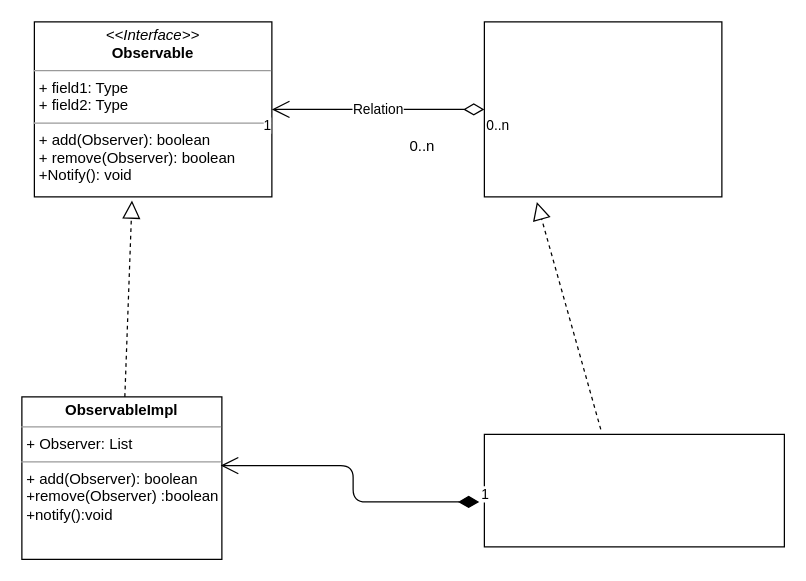
This 806x581 diagram has some shape labels left out. Here are the shapes that lost their labels. From the top down, the box of each, then its label:
(483, 21, 722, 197): <<Interface>> Observer + field2: Type + updateState(): void
(483, 433, 784, 547): ConcreteObserver + observableImpl: ObservableImpl + updateState(): void
